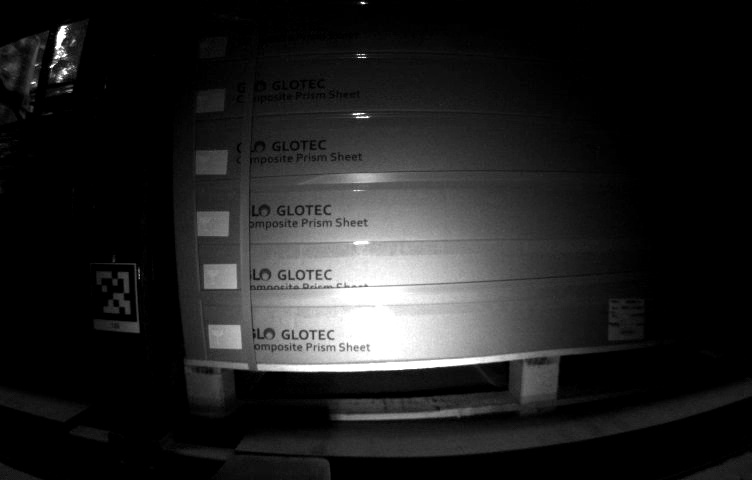True Barcode: (607, 295, 645, 342)
